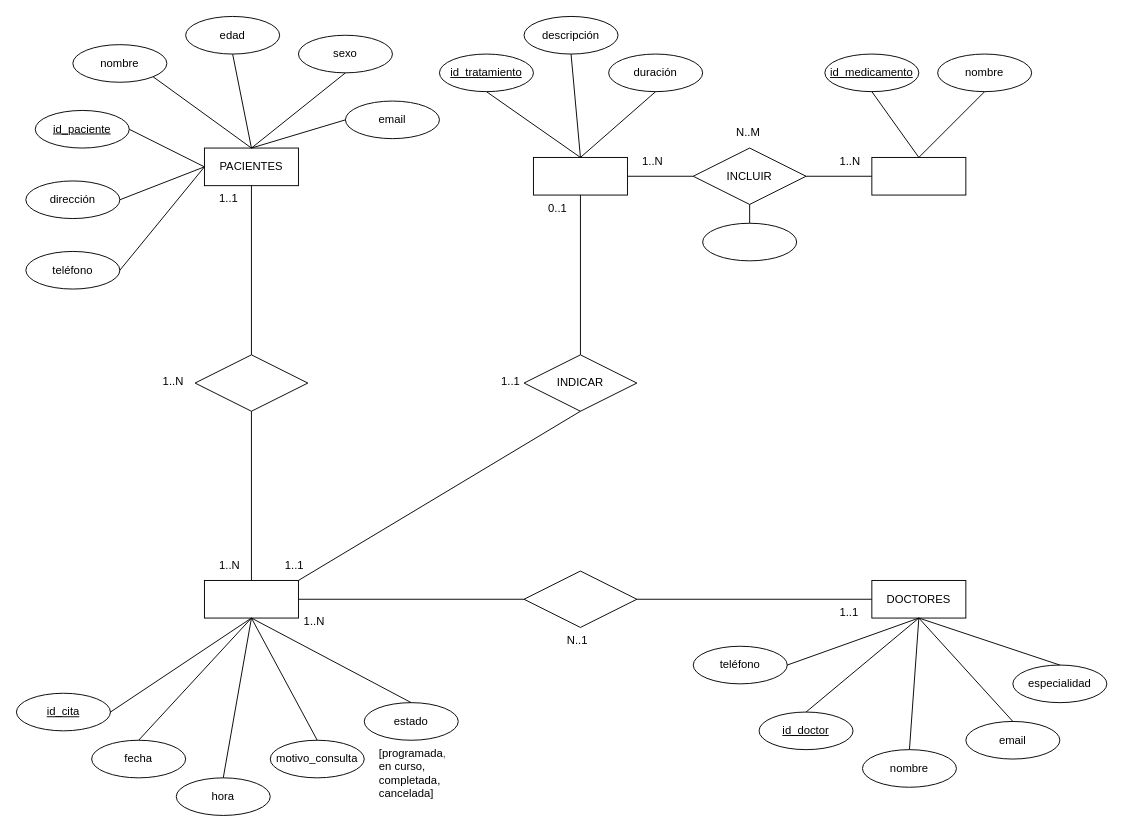
This 1123x832 diagram has some shape labels left out. The centre of each missing label's shape, as x and y in pixels:
"ATENDER" goes at (580,598).
"CITAS_MEDICAS" goes at (251,599).
"indicaciones" goes at (749,241).
"INGRESAR" goes at (251,382).
"MEDICAMENTOS" goes at (918,176).
"TRATAMIENTOS" goes at (580,176).
